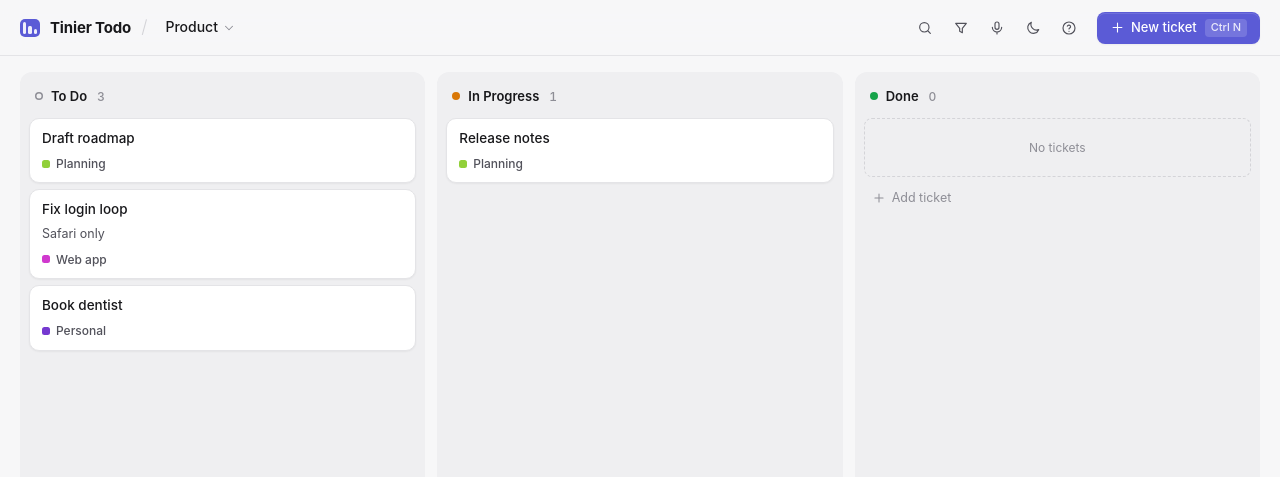
Test: App › filters from the filter menu
Expected: the text "Draft roadmap" is shown, [42,130,135,146]
What coordinates should you click on to do the following:
click the button named "Filter tickets"
I would click on:
 (961, 28)
Its box is [945,12,977,44].
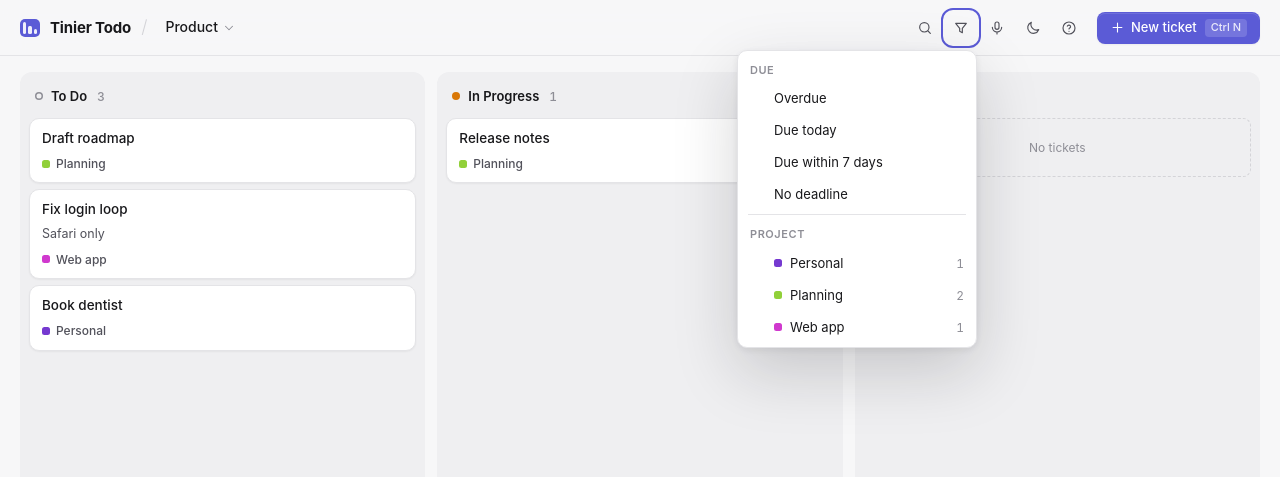
What coordinates should you click on to do the following:
click the menu item "Web app 1"
I would click on:
 (857, 327)
Its box is [742,311,972,343].
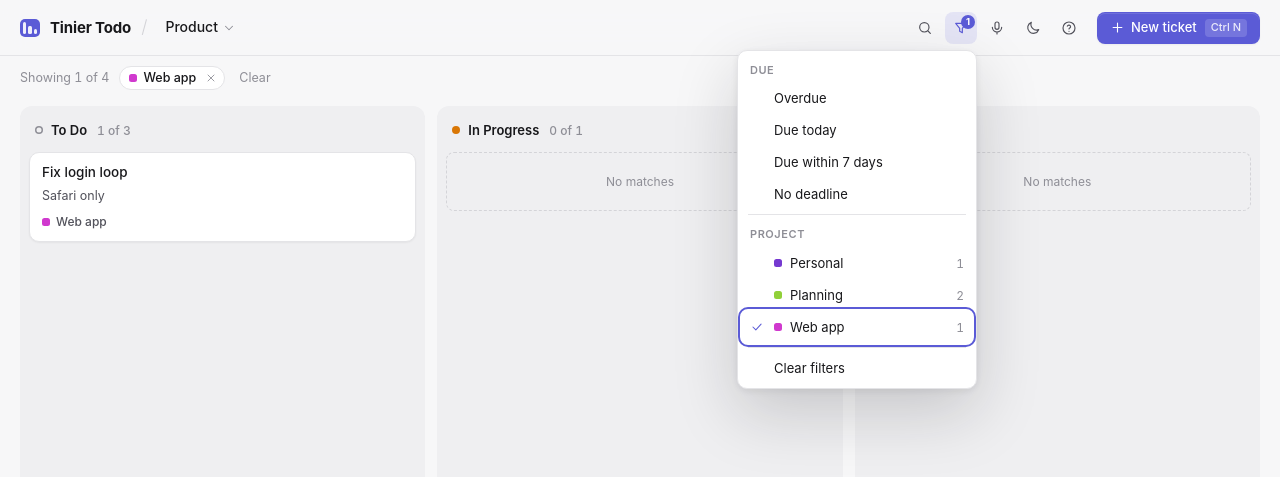
Now the button named "Filters (1 active)" is shown, box [945,12,977,44]
